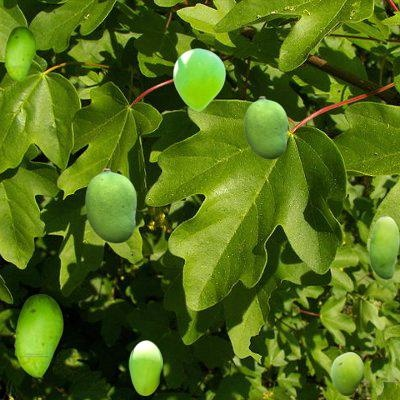green_mango: (14, 294, 62, 376), (85, 168, 135, 242), (173, 48, 224, 110), (244, 96, 286, 158), (369, 216, 398, 278), (129, 340, 161, 394), (4, 26, 35, 80), (331, 352, 362, 394)
